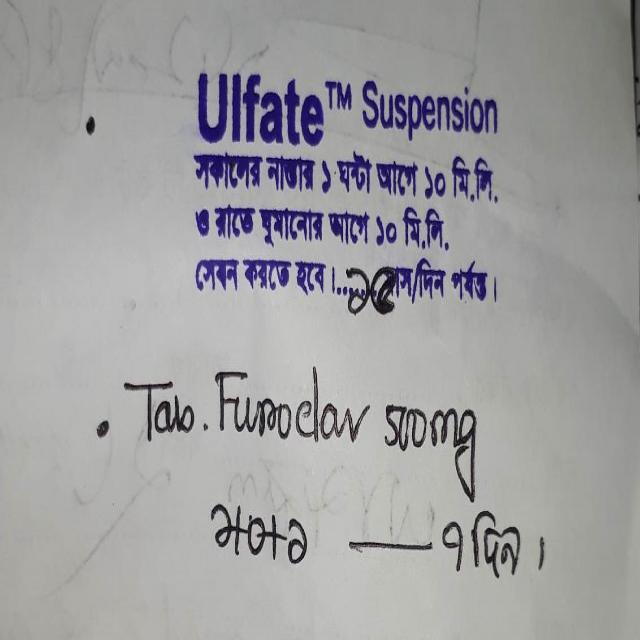Rafex: (210, 344, 377, 459)
